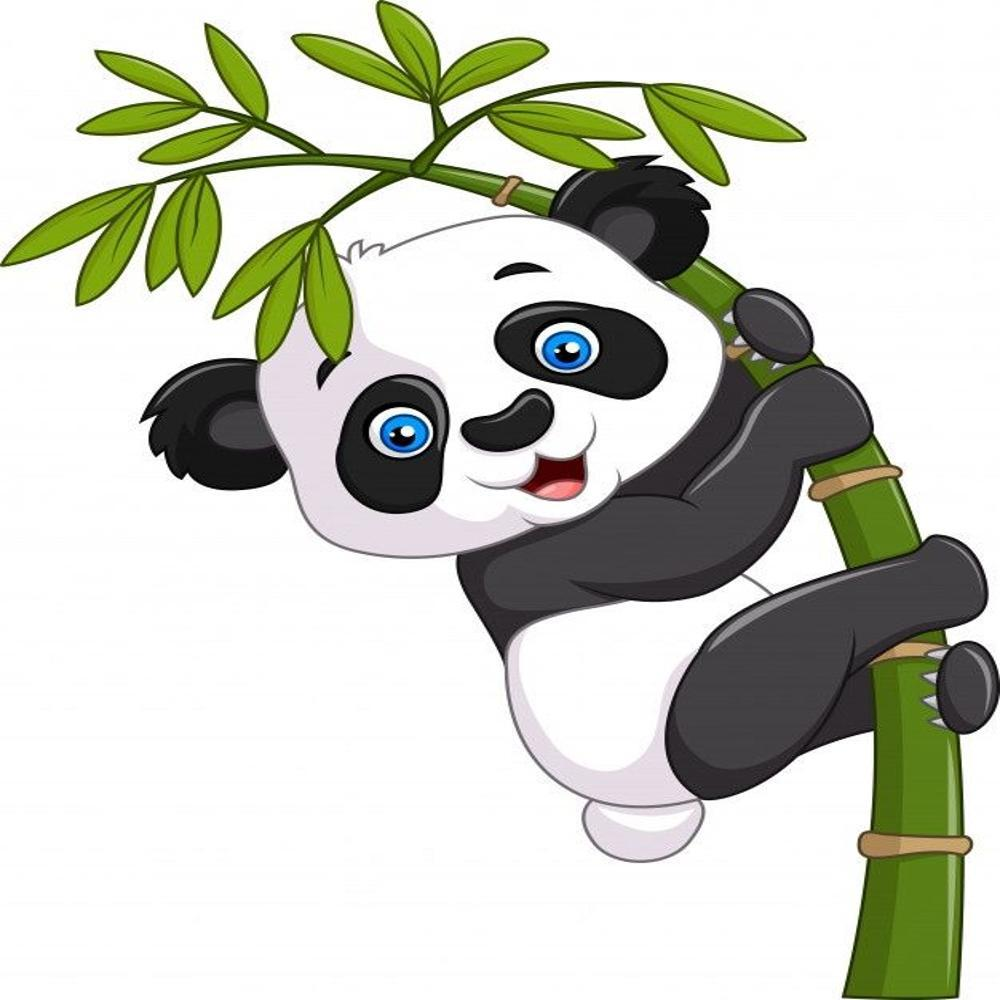panda: (144, 148, 1000, 864)
